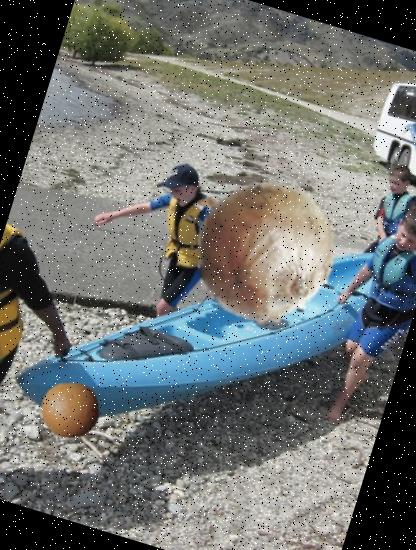Onion: (172, 160, 358, 346)
Orange: (33, 373, 108, 448)
